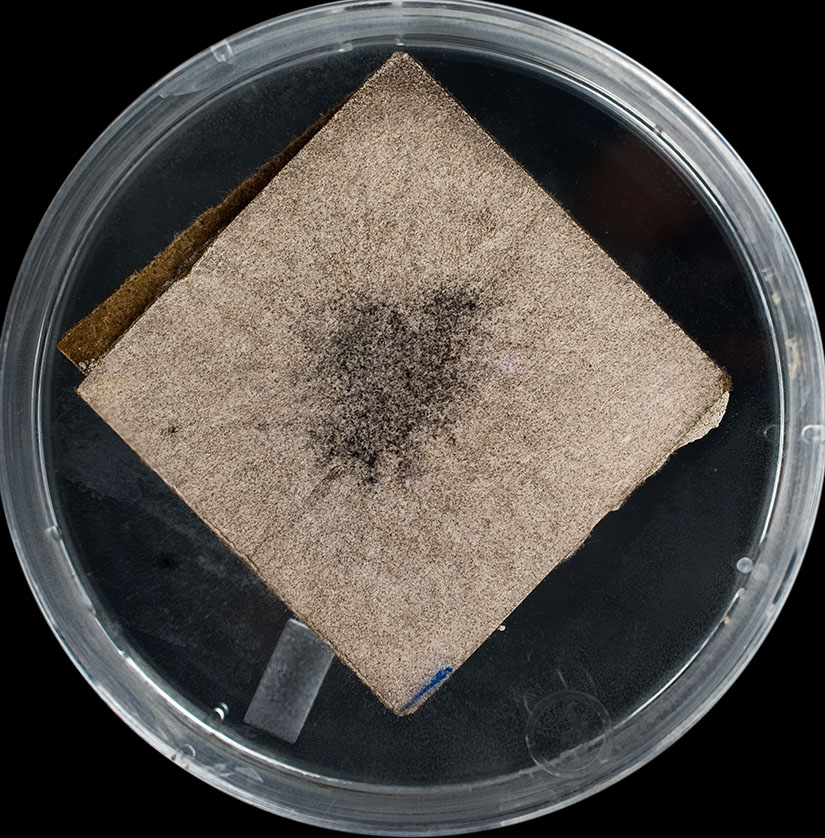Alternaria: (303, 279, 492, 489)
